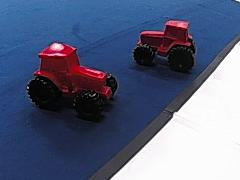Tracktor: (25, 42, 119, 117), (131, 16, 198, 71)
